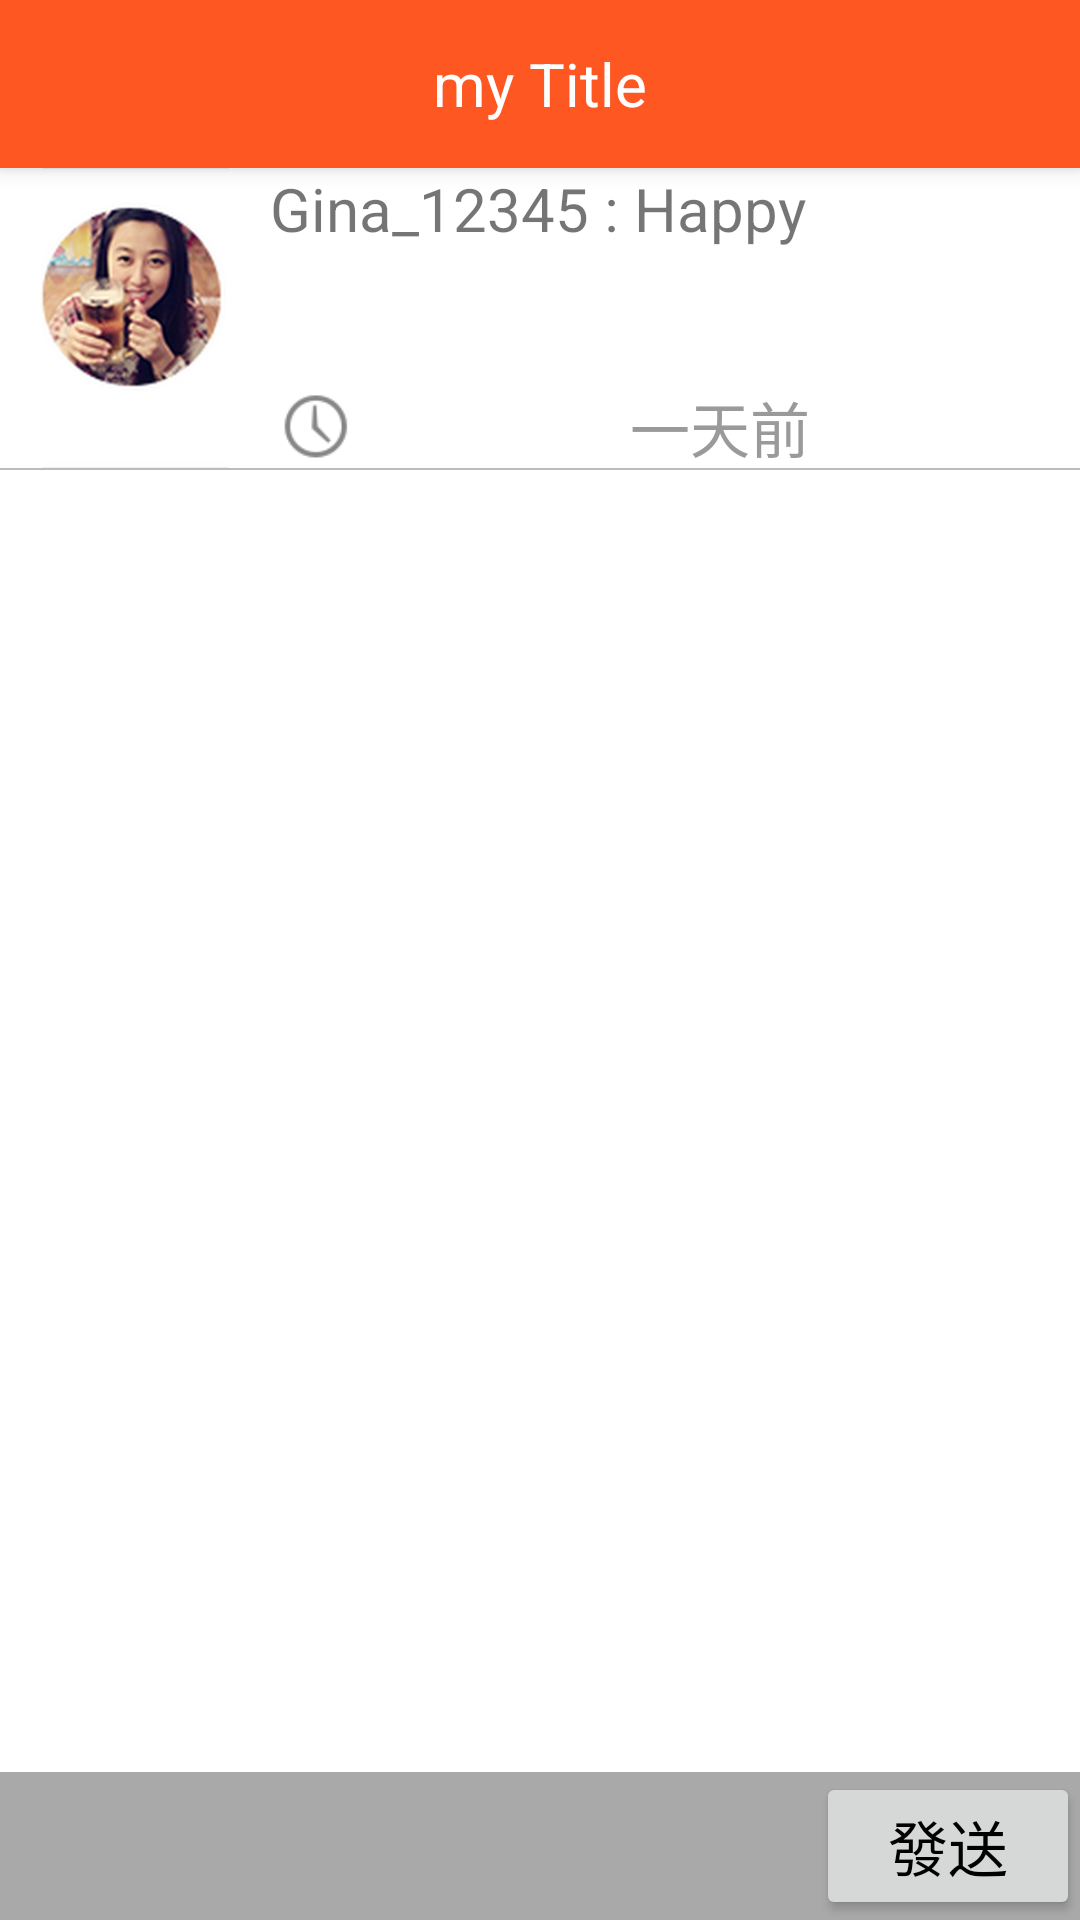

Icons on this 1080px x 1920px Android screen, each with the point to tap as point (x, y):
create time: point (315, 426)
owner: point (135, 318)
